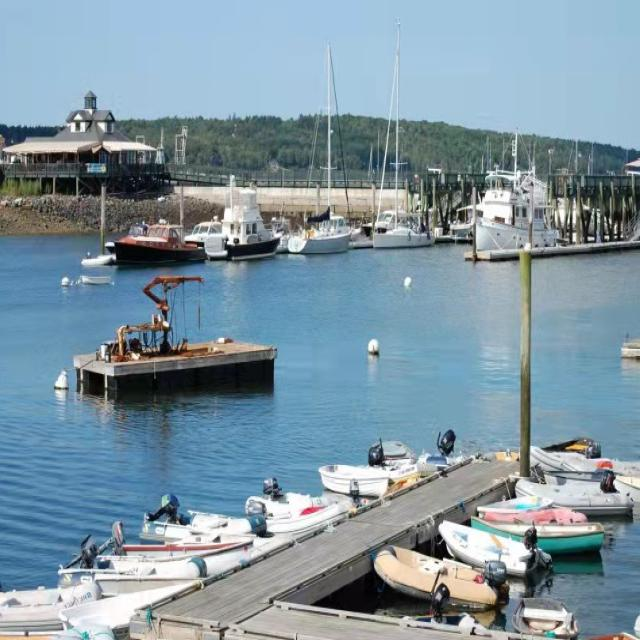houseboat: (481, 170, 548, 275), (110, 222, 209, 268), (222, 192, 280, 248), (288, 211, 356, 249), (370, 207, 428, 246)
